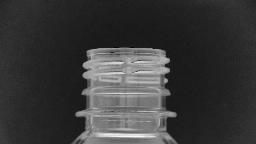No Cap: (70, 41, 182, 121)
